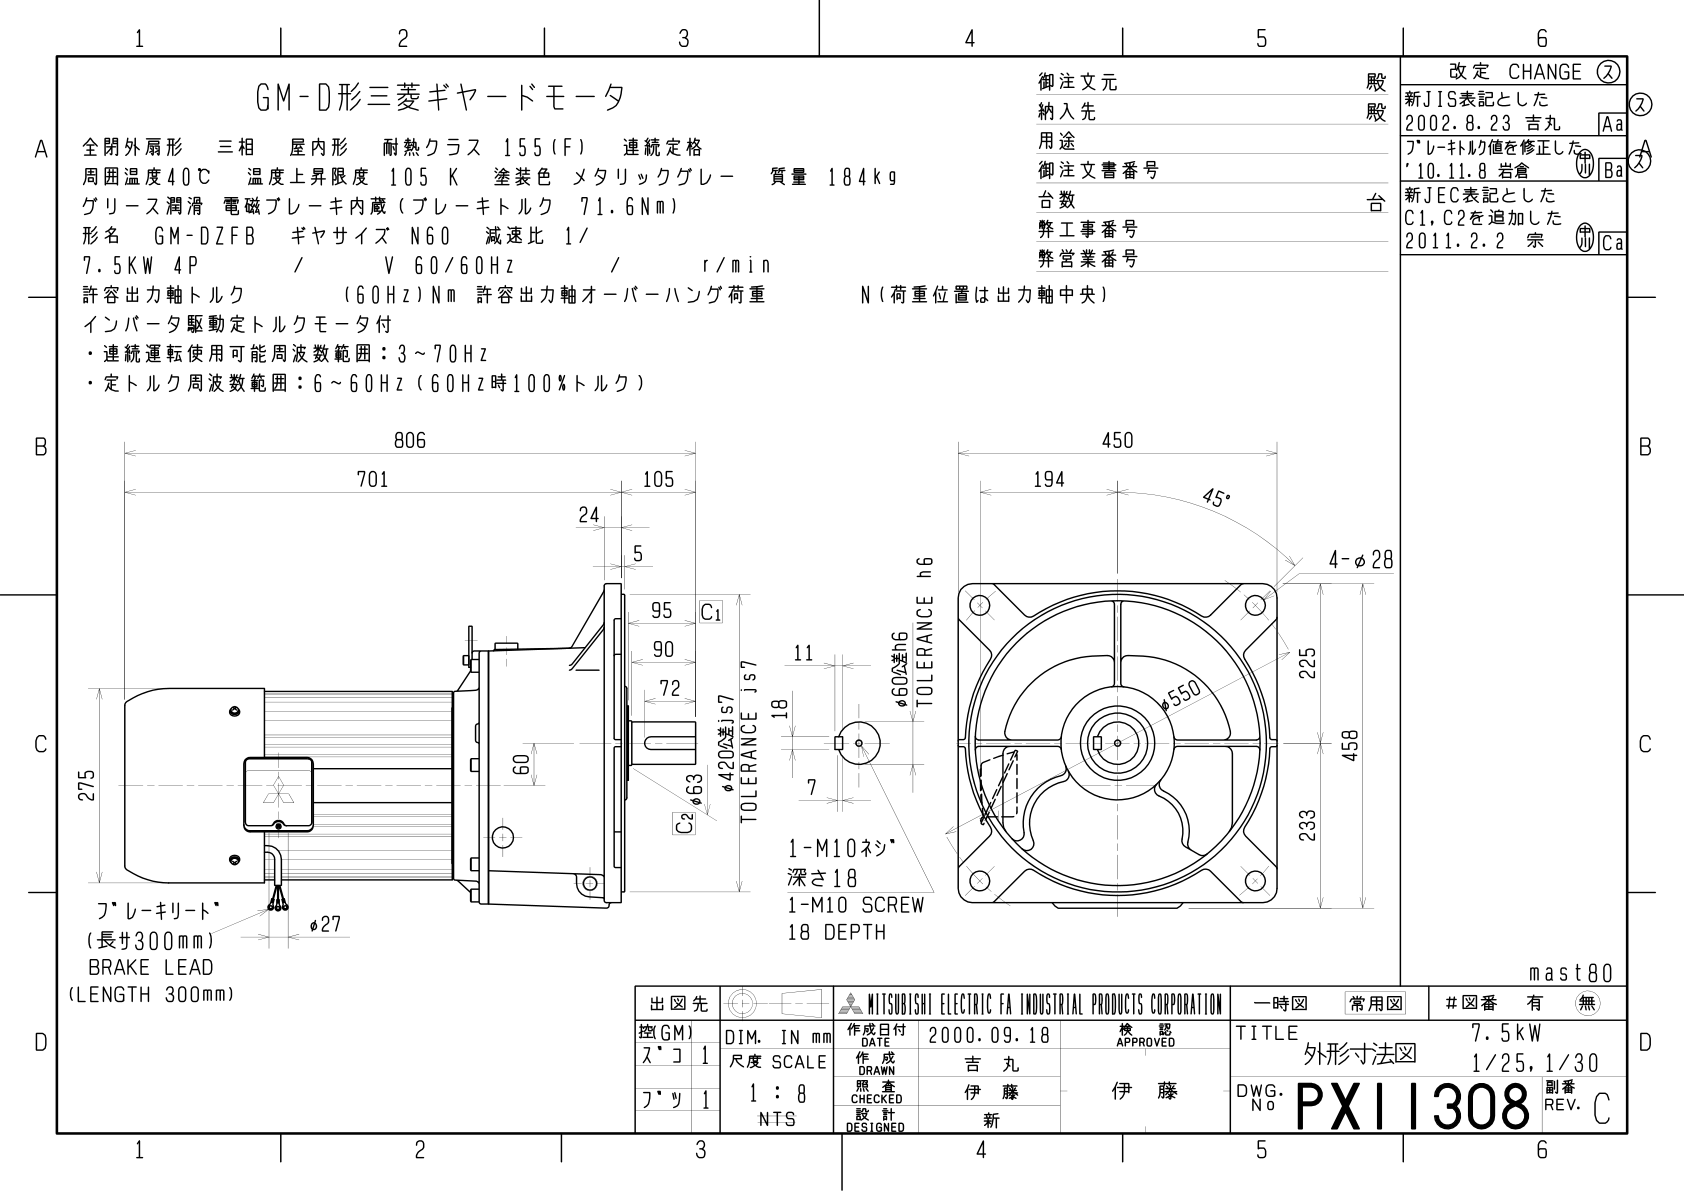GM_D_インバータ屋内_三相_フランジ: (12, 13, 1684, 1191)
